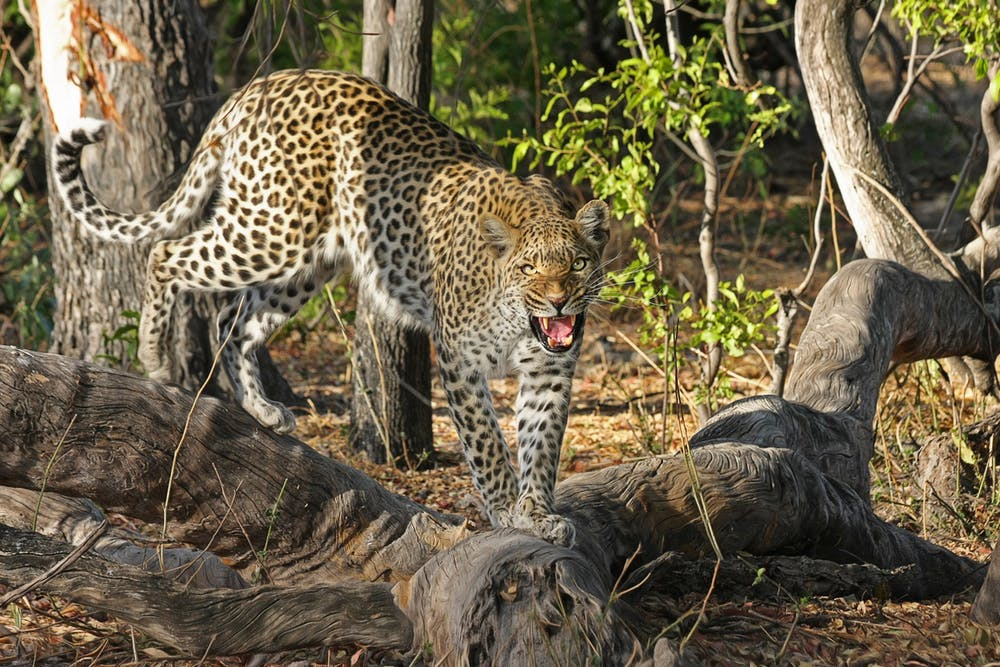cheetah: (467, 189, 628, 365)
